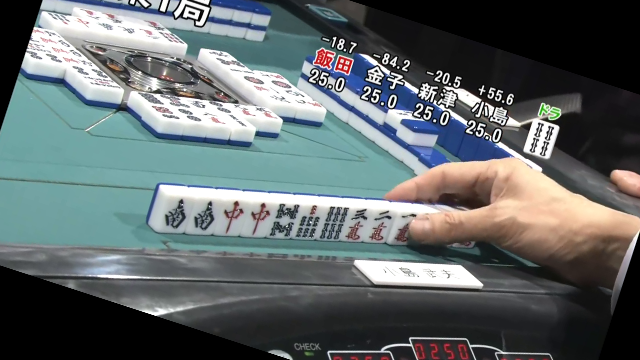Tehai: (142, 182, 482, 247)
